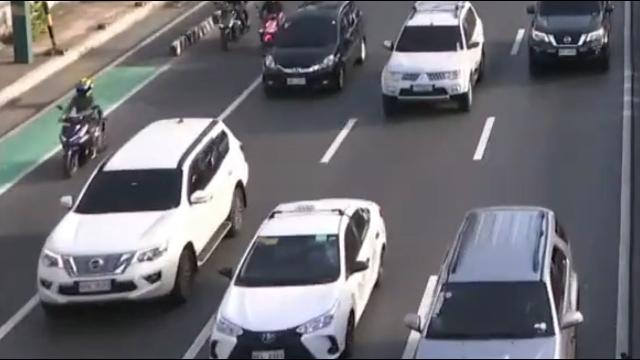car: (38, 118, 248, 315), (208, 198, 388, 360), (408, 206, 583, 360), (376, 2, 486, 118), (262, 0, 364, 98), (524, 0, 615, 76)
motorcycle: (56, 77, 106, 175), (257, 0, 291, 52), (220, 0, 248, 53)
